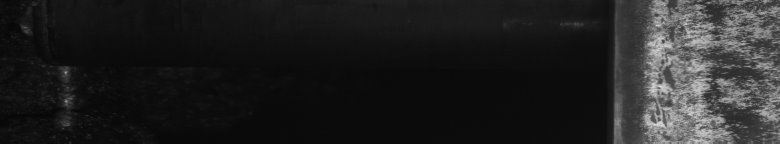kb: (640, 4, 776, 136)
